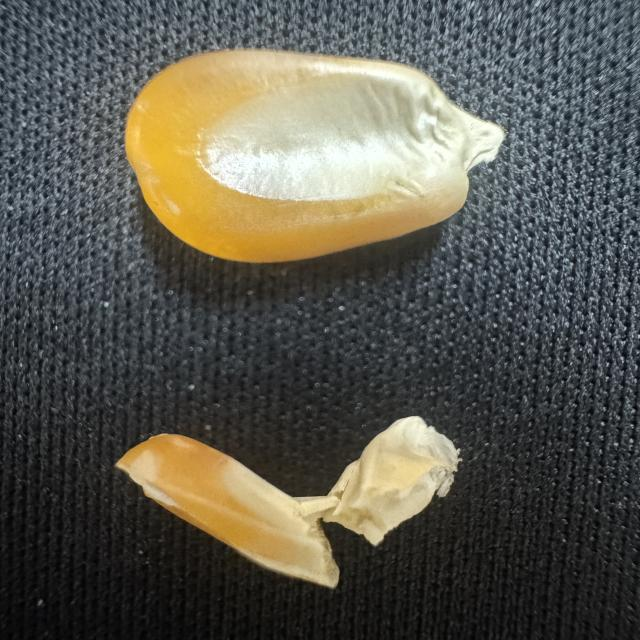Bad-Seed: (106, 405, 478, 595)
Good-Seed: (125, 48, 508, 266)
